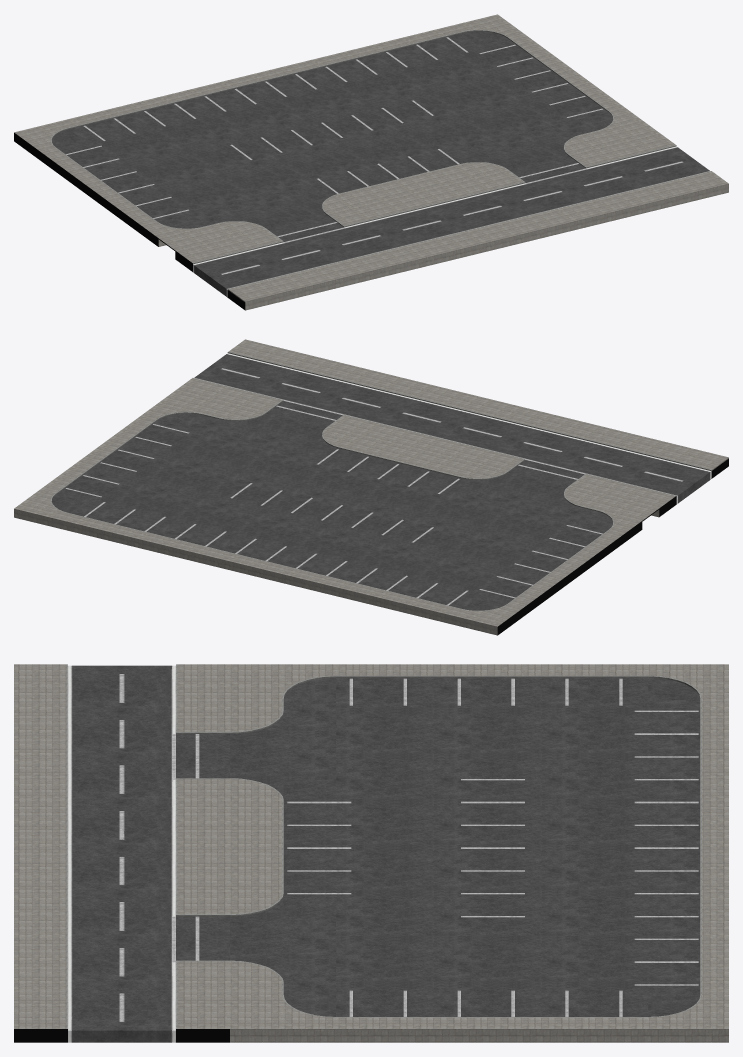
Rendered from carpark.fbx.
The picture shows the model from 3 angles, top to bottom: view 1: azimuth 30°, elevation 25°; view 2: azimuth 150°, elevation 25°; view 3: azimuth 270°, elevation 25°; orthographic projection. The views are drawn at different scales.
Parts seen in each view (by area): view 1: materialE150, materialF150, materialB150, materialA150, materialH150, materialC150, materialG150, materialD150; view 2: materialE150, materialF150, materialB150, materialA150, materialH150, materialC150, materialG150, materialD150; view 3: materialE150, materialF150, materialB150, materialA150, materialH150, materialD150, materialC150, materialG150.
Part boxes in pixels (x1=…): materialE150: x1=52, y1=31, x2=612, y2=236; materialF150: x1=14, y1=14, x2=728, y2=310; materialB150: x1=193, y1=146, x2=709, y2=297; materialA150: x1=66, y1=37, x2=602, y2=242; materialH150: x1=50, y1=30, x2=711, y2=289; materialC150: x1=14, y1=132, x2=245, y2=310; materialG150: x1=51, y1=30, x2=676, y2=264; materialD150: x1=278, y1=164, x2=585, y2=241; materialE150: x1=52, y1=406, x2=612, y2=610; materialF150: x1=14, y1=339, x2=728, y2=635; materialB150: x1=194, y1=353, x2=711, y2=504; materialA150: x1=66, y1=400, x2=602, y2=605; materialH150: x1=51, y1=352, x2=711, y2=610; materialC150: x1=497, y1=458, x2=728, y2=635; materialG150: x1=51, y1=352, x2=711, y2=521; materialD150: x1=277, y1=401, x2=584, y2=478; materialE150: x1=199, y1=677, x2=700, y2=1016; materialF150: x1=14, y1=664, x2=728, y2=1042; materialB150: x1=68, y1=665, x2=175, y2=1042; materialA150: x1=172, y1=678, x2=698, y2=1016; materialH150: x1=66, y1=664, x2=701, y2=1028; materialD150: x1=176, y1=734, x2=195, y2=960; materialC150: x1=14, y1=1029, x2=229, y2=1042; materialG150: x1=176, y1=676, x2=700, y2=916.
Size of the model in its own units: 102 by 1.8 by 84.8.
